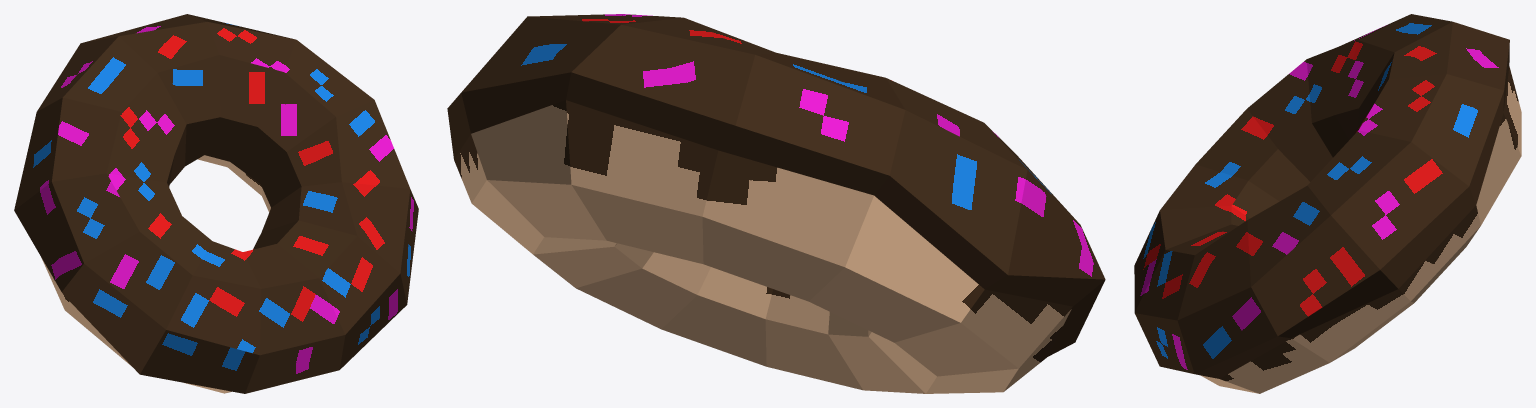
Rendered from donut.glb.
3 views of the same model, side by side, from view 1: azimuth 30°, elevation 25°; view 2: azimuth 150°, elevation 25°; view 3: azimuth 270°, elevation 25° (orthographic). The views are drawn at different scales.
Visible parts, largest first — view 1: torus_0; view 2: torus_0; view 3: torus_0.
Boxes of the visible parts, left/top/right/bottom form: torus_0: left=14, top=14, right=418, bottom=393; torus_0: left=447, top=14, right=1105, bottom=393; torus_0: left=1134, top=14, right=1521, bottom=393.
Size of the model in its own units: 1.61 by 1.21 by 1.33.
Materials: 1 (1 with a texture image).
